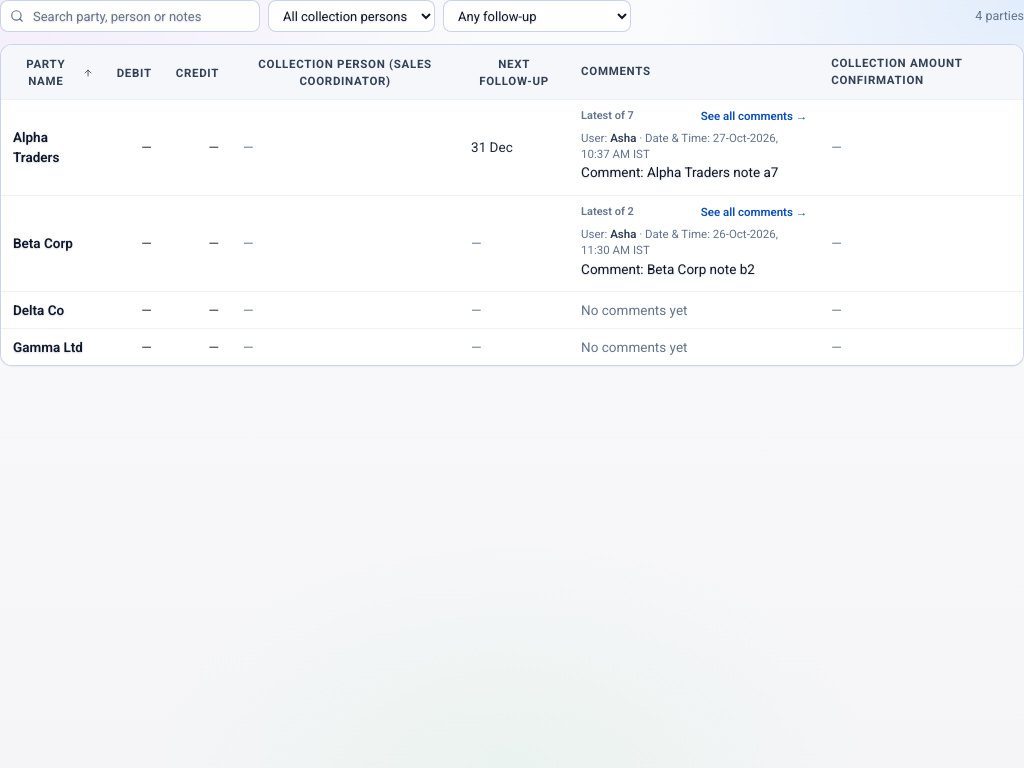
Test: See all comments › opens that company's complete history at once — all seven, newest first, nothing fetched
What coordinates should you click on to do the following:
click the button with aria-label "See all 7 comments for Alpha Traders"
I would click on:
 (754, 116)
Its box is [701,108,807,125].
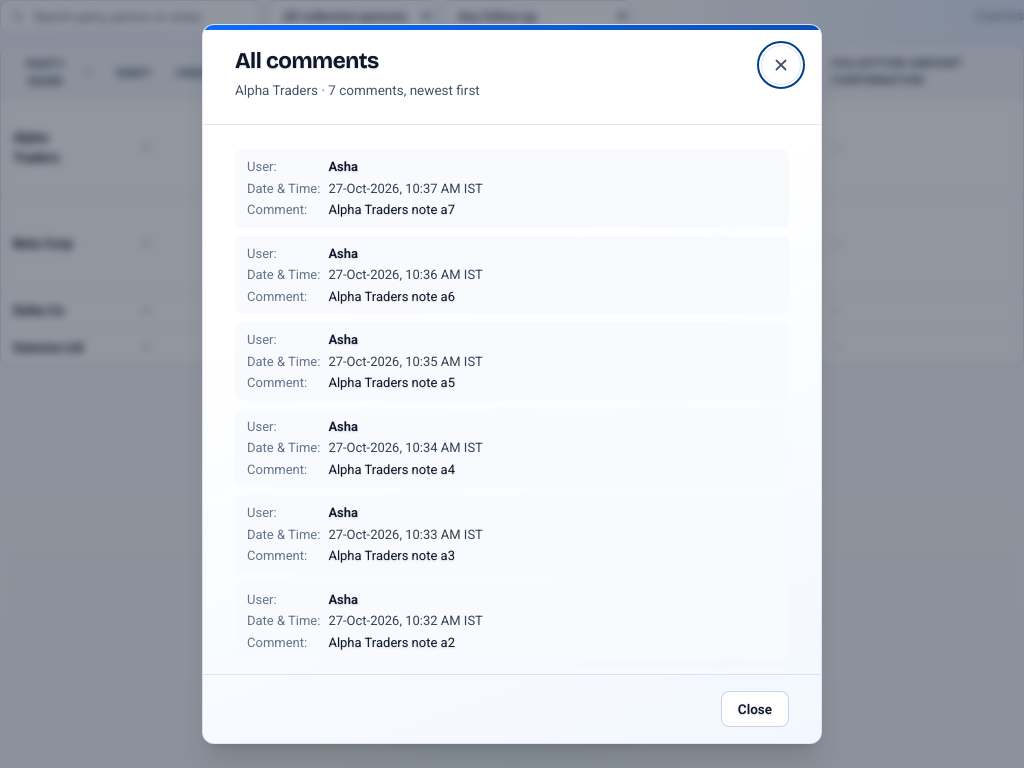
Check: the dialog "All comments" does not show "Beta Corp"
Closing returns to the single-comment row, unchanged.
What coordinates should you click on to do the following:
click the button "Close"
I would click on:
 (755, 709)
Its box is [721,691,789,727].
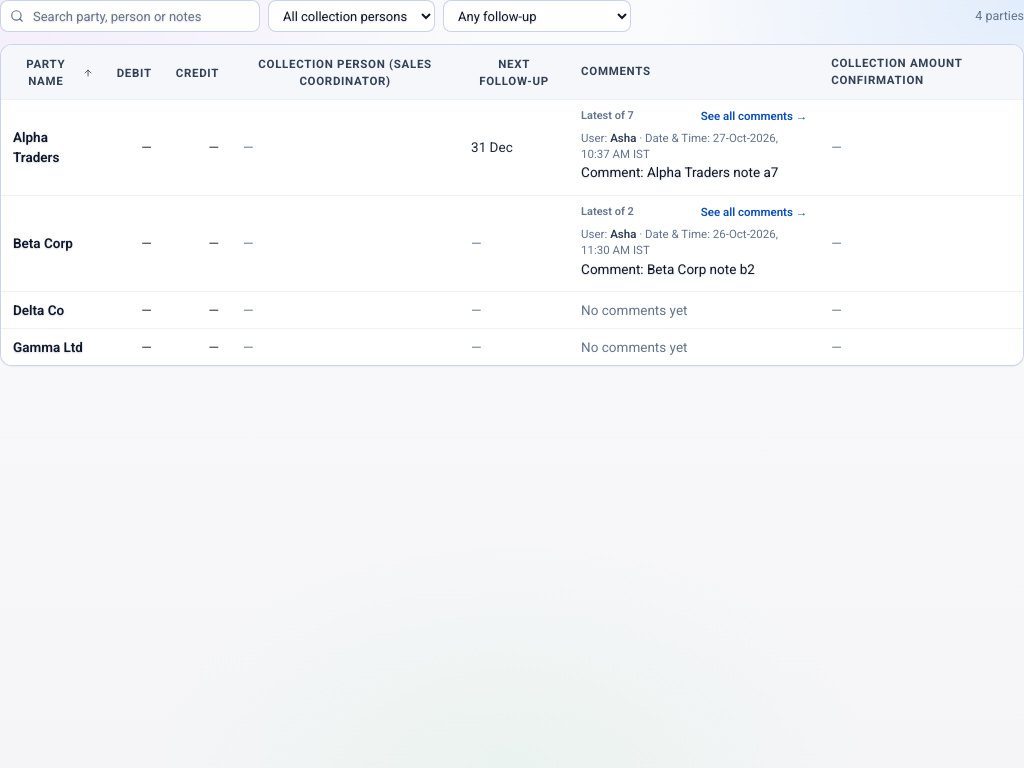
Check: the dialog is gone
